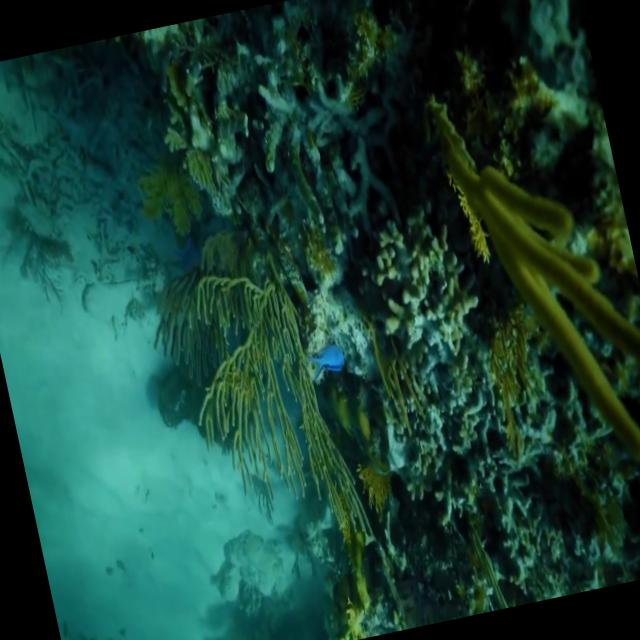fish: (303, 334, 353, 384)
